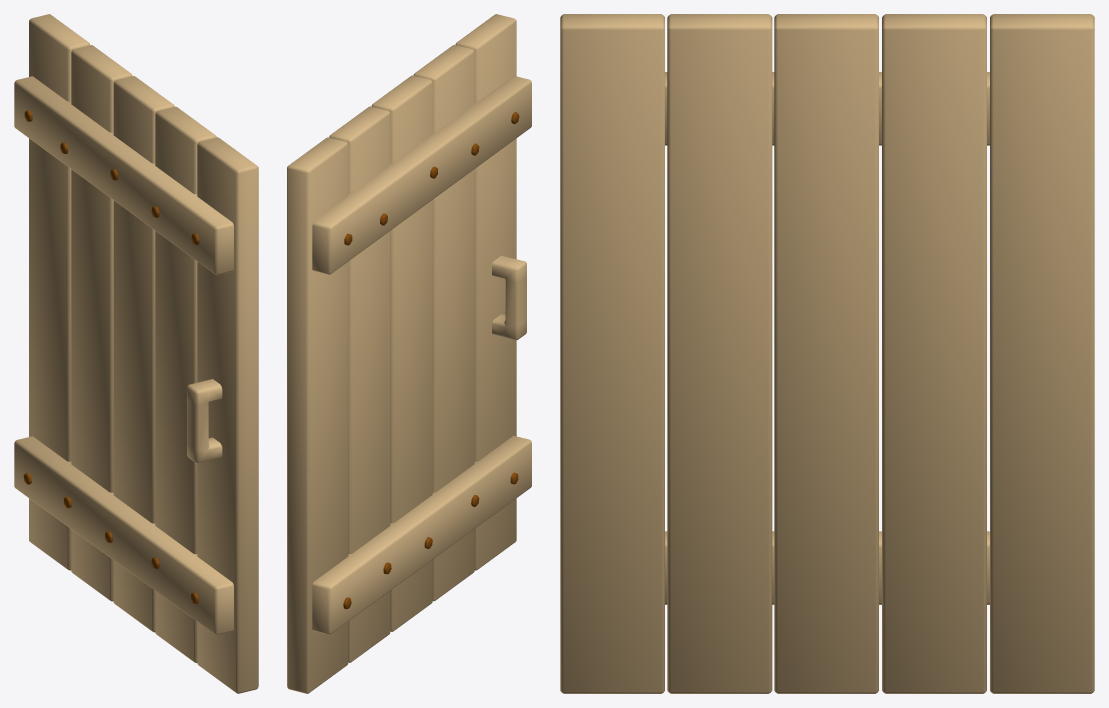
Rendered from drzwi_cale.fbx.
The picture shows the model from 3 angles, left to right: view 1: azimuth 30°, elevation 25°; view 2: azimuth 150°, elevation 25°; view 3: azimuth 270°, elevation 25°; orthographic projection. The views are drawn at different scales.
Visible parts, largest first — view 1: drzwi do rozwalenia; view 2: drzwi do rozwalenia; view 3: drzwi do rozwalenia.
Boxes of the visible parts, x1,y1,x2,y2 form: drzwi do rozwalenia: [14, 14, 258, 693]; drzwi do rozwalenia: [287, 14, 531, 693]; drzwi do rozwalenia: [560, 14, 1094, 693].
Bounding box in the file's own units: 10.61 × 110 × 79.35.
